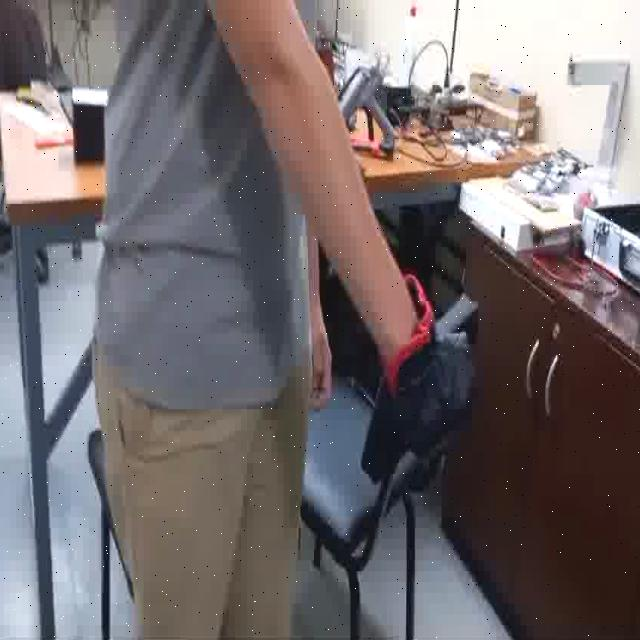Gloves: (378, 257, 477, 456)
